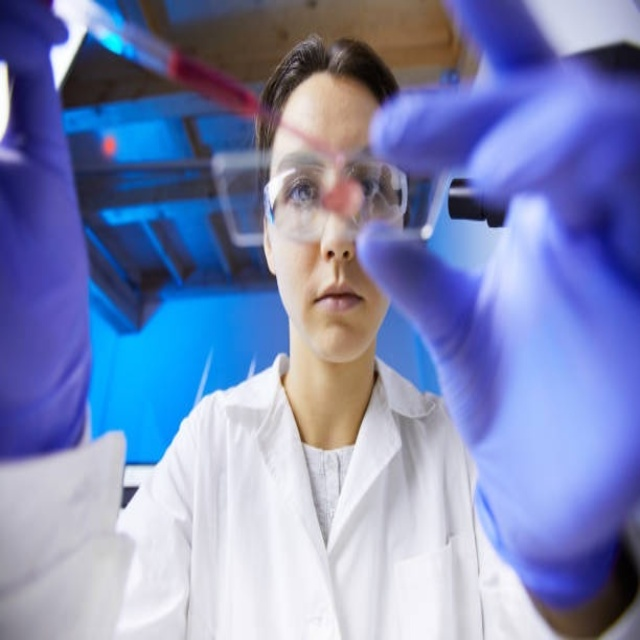Gafas: (260, 151, 409, 244)
Guantes: (351, 2, 628, 596), (2, 5, 91, 458)
Sin_mascara: (299, 276, 375, 344)
